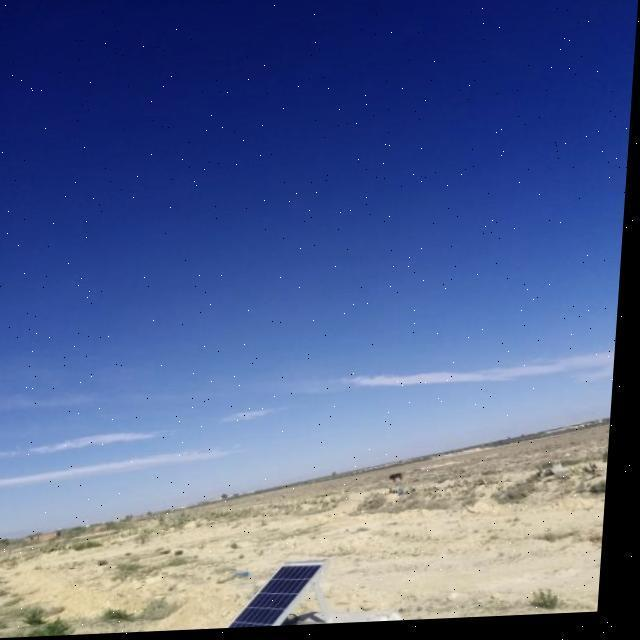Normal Solar Panel: (226, 565, 334, 631)
